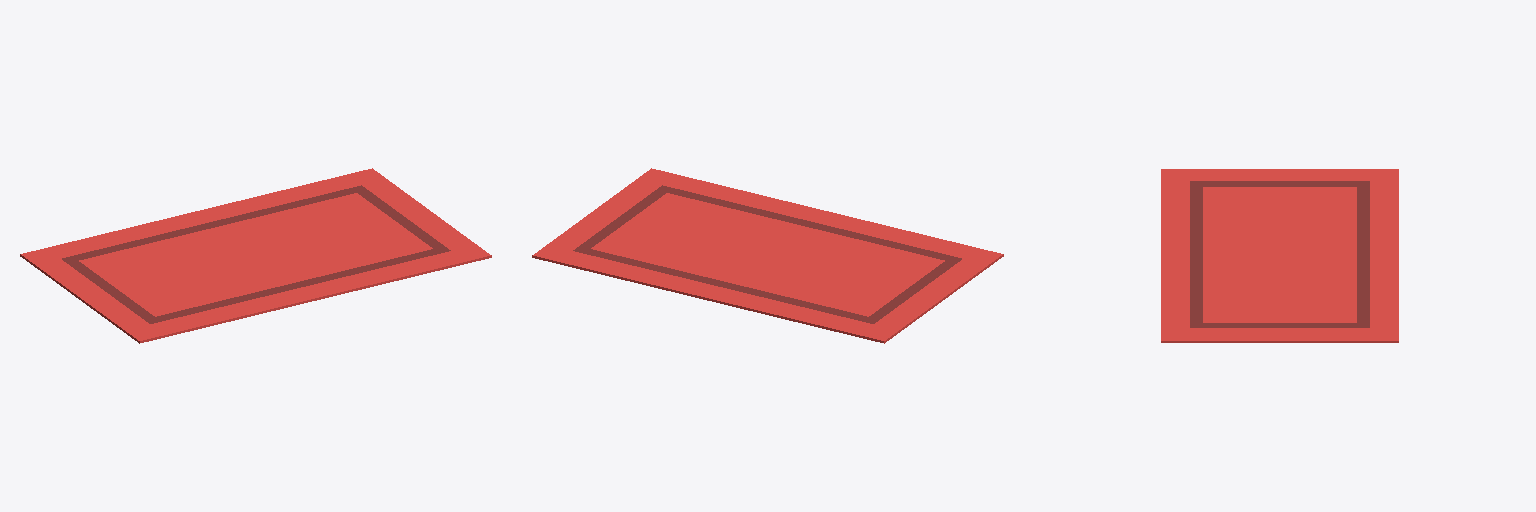
File: rugRectangle.obj
3 renders of one model, left to right at view 1: azimuth 30°, elevation 25°; view 2: azimuth 150°, elevation 25°; view 3: azimuth 270°, elevation 25°, orthographic.
Visible parts, largest first — view 1: rugRectangle; view 2: rugRectangle; view 3: rugRectangle.
Boxes of the visible parts, <box> form: rugRectangle: <box>20,168,491,343</box>; rugRectangle: <box>532,168,1003,343</box>; rugRectangle: <box>1161,169,1398,342</box>.
Bounding box in the file's own units: 1.57 × 0.01 × 0.92.